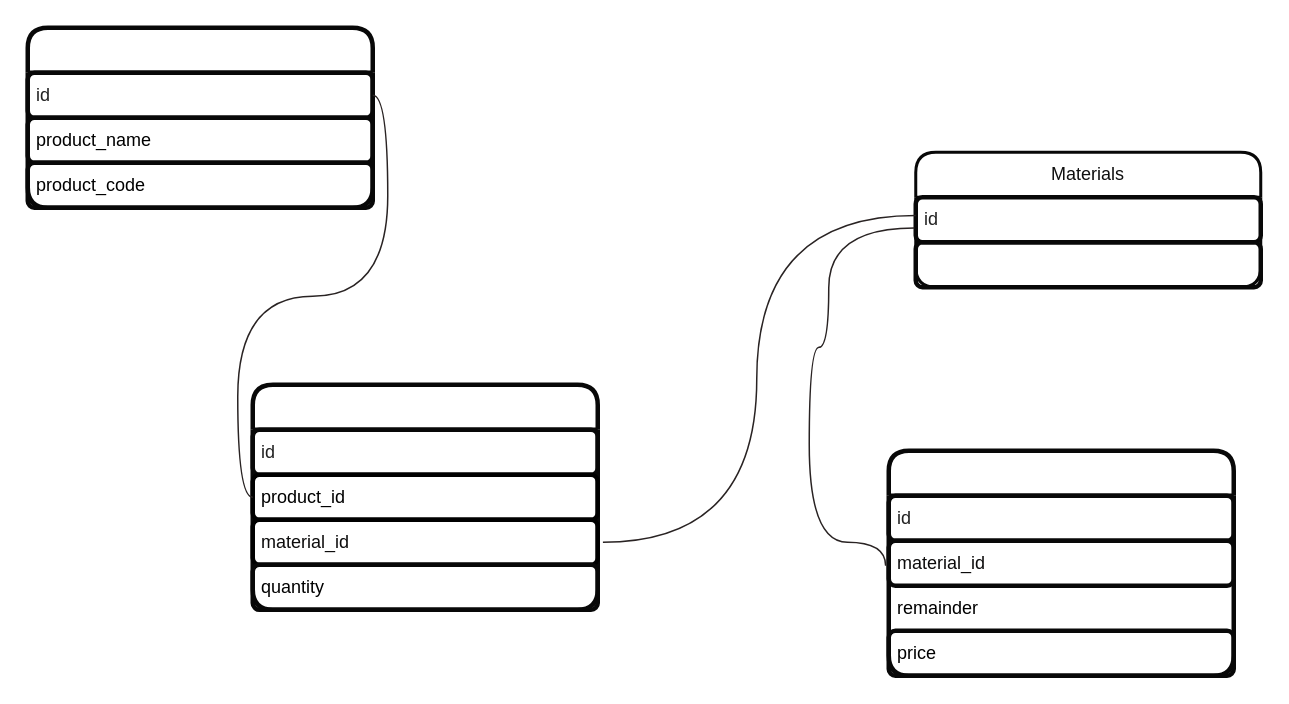
This 1289x704 diagram has some shape labels left out. Here are the shapes that lost their labels. From the top down, the box of each, then its label:
(25, 25, 374, 209): Products
(913, 239, 1262, 289): material_name
(250, 382, 599, 611): Product_materials
(886, 448, 1235, 677): Warehouses
